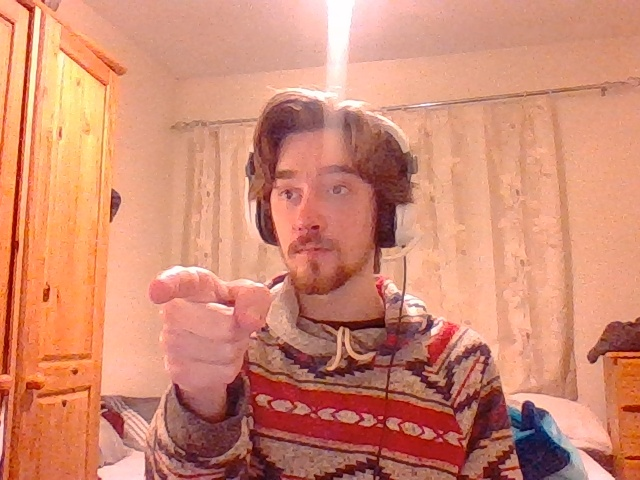you: (148, 266, 272, 400)
